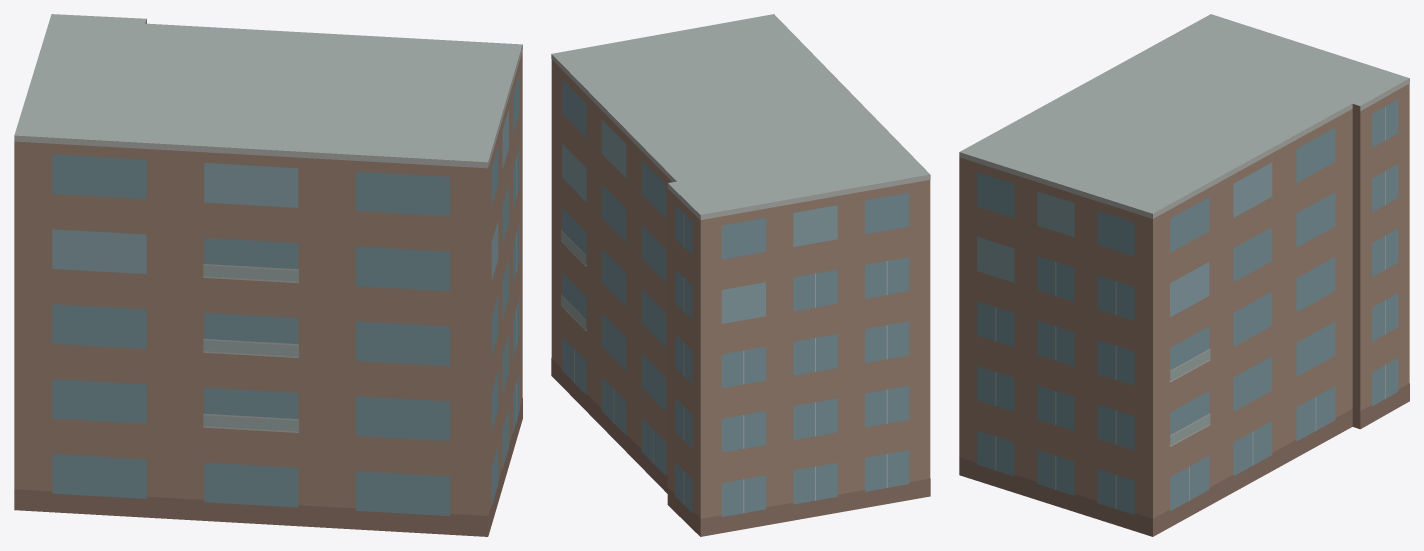
The model's file is survey-upis-32763878.glb.
3 views of the same model, side by side, from view 1: azimuth 30°, elevation 25°; view 2: azimuth 150°, elevation 25°; view 3: azimuth 270°, elevation 25° (orthographic). The views are drawn at different scales.
Parts seen in each view (by area): view 1: survey-upis-32763878.tmp; view 2: survey-upis-32763878.tmp; view 3: survey-upis-32763878.tmp.
Part boxes in pixels (box(x1,y1,x2,y2)): survey-upis-32763878.tmp: box(14, 14, 522, 536); survey-upis-32763878.tmp: box(551, 14, 930, 536); survey-upis-32763878.tmp: box(959, 14, 1409, 536).
Bounding box in the file's own units: 20.24 × 15.25 × 19.28.
